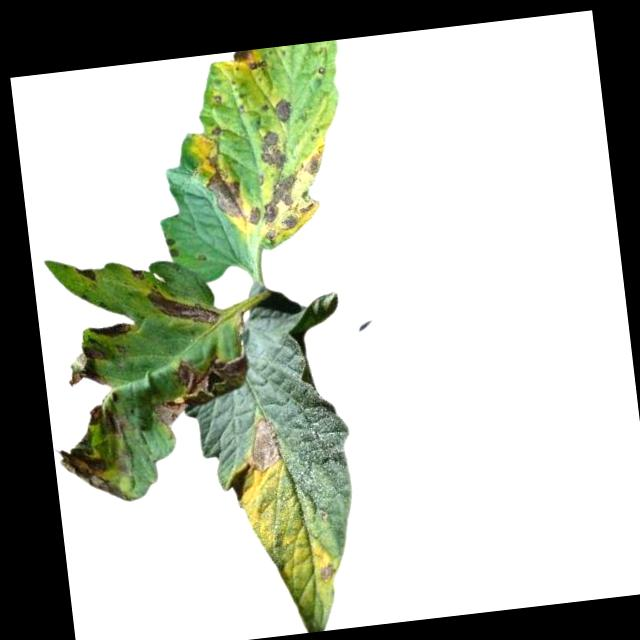Early_blight: (238, 124, 334, 245), (146, 349, 248, 428), (57, 441, 122, 503), (143, 282, 221, 333), (199, 150, 245, 222), (245, 413, 286, 472), (65, 342, 110, 390), (83, 399, 131, 442), (82, 317, 132, 341), (224, 49, 269, 74), (272, 96, 295, 124), (315, 558, 336, 582), (74, 262, 96, 282), (164, 233, 180, 257), (133, 264, 146, 281), (208, 125, 223, 136)
